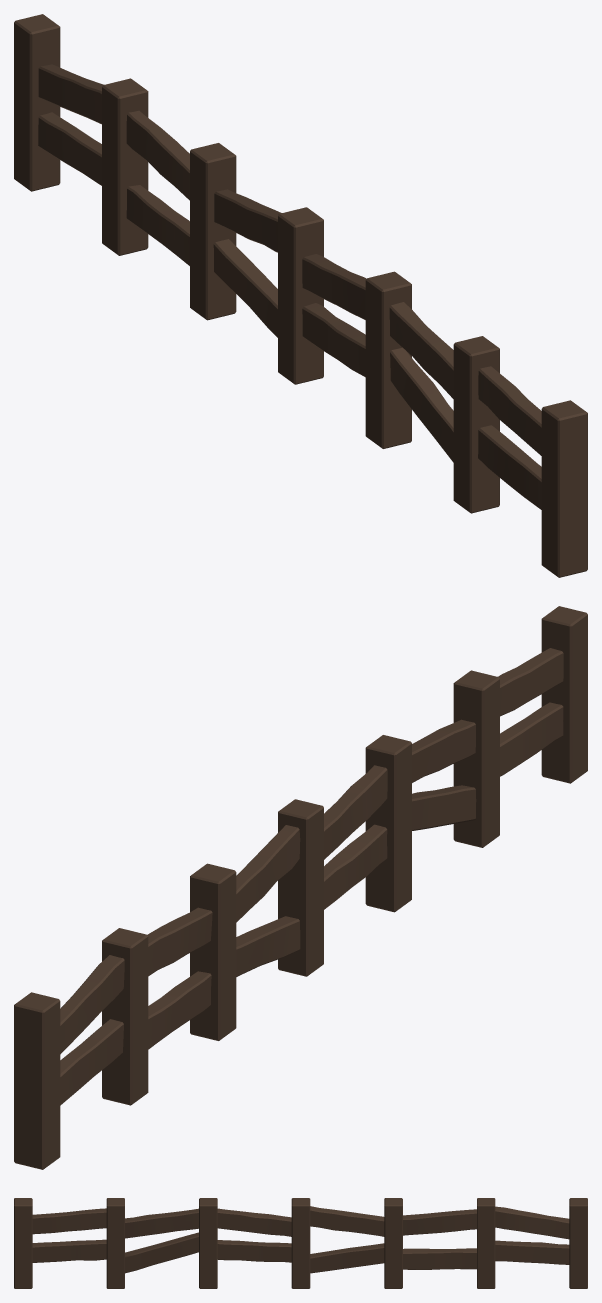
Rendered from Straight_fence.fbx.
3 views of the same model, one above another, from view 1: azimuth 30°, elevation 25°; view 2: azimuth 150°, elevation 25°; view 3: azimuth 270°, elevation 25° (orthographic). The views are drawn at different scales.
Parts seen in each view (by area): view 1: Fence.001; view 2: Fence.001; view 3: Fence.001.
Boxes of the visible parts, x1,y1,x2,y2 form: Fence.001: (14, 14, 587, 577); Fence.001: (14, 606, 587, 1169); Fence.001: (14, 1198, 587, 1288).
Size of the model in its own units: 20 by 100 by 620.
